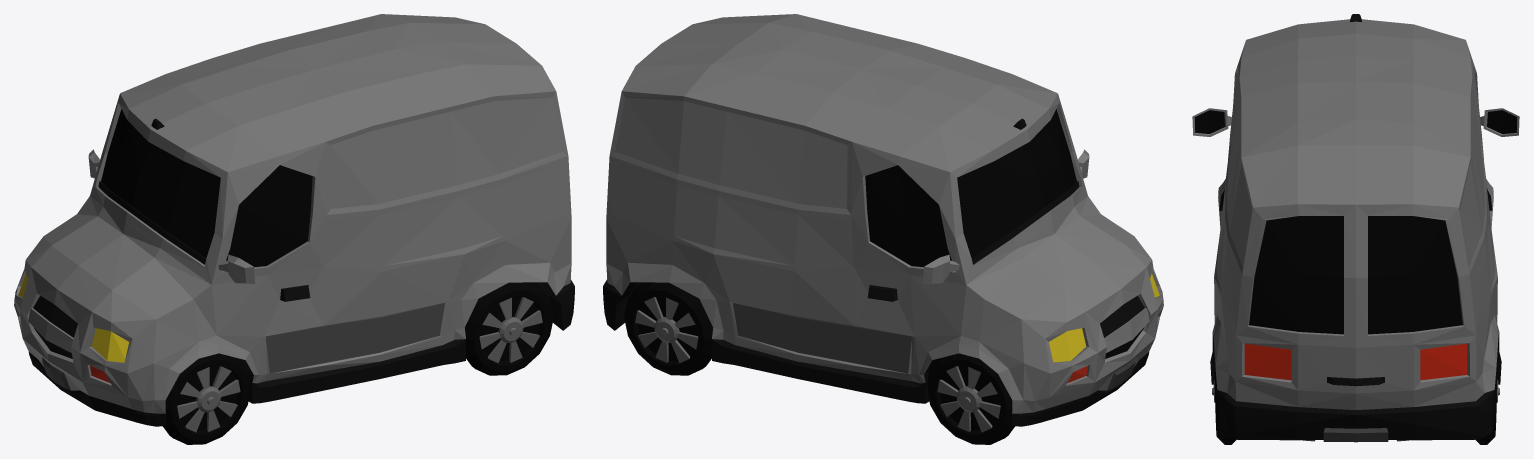
File: ParkedVan.obj
3 renders of one model, left to right at view 1: azimuth 30°, elevation 25°; view 2: azimuth 150°, elevation 25°; view 3: azimuth 270°, elevation 25°, orthographic.
Visible parts, largest first — view 1: Cube, Cube_2, Cube_1, wheel_front_left, Cube_6, wheel_front_left_1, Cube_3, mirrors; view 2: Cube, Cube_2, Cube_1, wheel_front_right, Cube_6, wheel_front_right_1, Cube_3, mirrors; view 3: Cube, Cube_2, Cube_1, Cube_4, mirrors_1, Cube_7, mirrors, wheel_front_right, wheel_front_left.
Part boxes in pixels (x1,y1,x2,y2): Cube: (14, 14, 571, 413); Cube_2: (101, 109, 312, 267); Cube_1: (28, 118, 574, 426); wheel_front_left: (162, 282, 553, 444); Cube_6: (266, 303, 444, 373); wheel_front_left_1: (177, 297, 542, 432); Cube_3: (18, 273, 128, 362); mirrors: (88, 149, 255, 283); Cube: (606, 14, 1163, 413); Cube_2: (865, 109, 1076, 267); Cube_1: (603, 118, 1149, 426); wheel_front_right: (624, 282, 1015, 444); Cube_6: (733, 303, 911, 373); wheel_front_right_1: (635, 297, 1000, 432); Cube_3: (1049, 273, 1159, 362); mirrors: (922, 149, 1089, 283); Cube: (1212, 19, 1499, 409); Cube_2: (1249, 216, 1462, 334); Cube_1: (1210, 14, 1501, 440); Cube_4: (1244, 343, 1467, 380); mirrors_1: (1195, 110, 1516, 133); Cube_7: (1323, 428, 1388, 442); mirrors: (1192, 108, 1519, 136); wheel_front_right: (1475, 352, 1497, 444); wheel_front_left: (1214, 352, 1236, 444).
Size of the model in its own units: 4.26 by 2.39 by 2.39.
